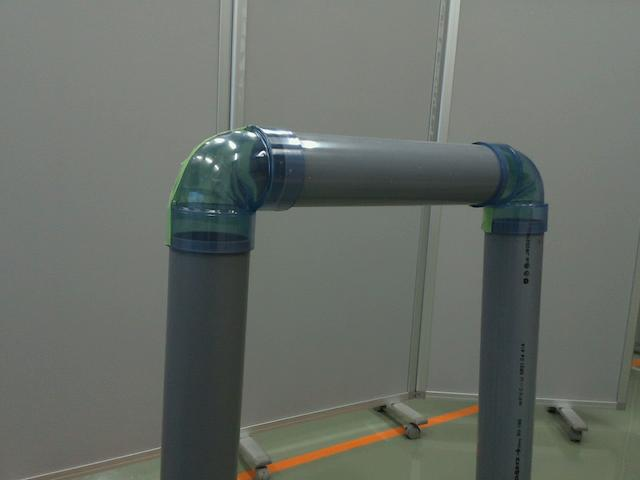bent: (173, 126, 303, 258), (468, 139, 552, 231)
